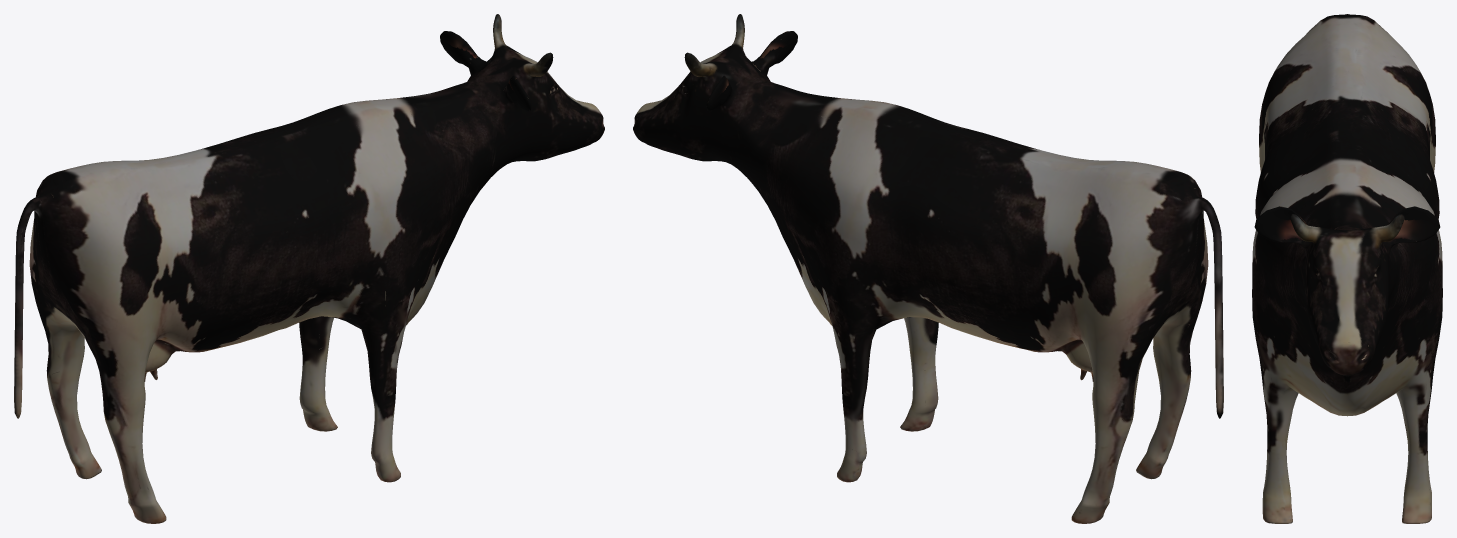
File: my_cow_lp_normal.fbx
The picture shows the model from 3 angles, left to right: view 1: azimuth 30°, elevation 25°; view 2: azimuth 150°, elevation 25°; view 3: azimuth 270°, elevation 25°; orthographic projection. The views are drawn at different scales.
Visible parts, largest first — view 1: Plane.006; view 2: Plane.006; view 3: Plane.006.
Part boxes in pixels (bbox=[...]): Plane.006: bbox=[14, 14, 604, 523]; Plane.006: bbox=[633, 14, 1223, 523]; Plane.006: bbox=[1252, 14, 1442, 523].
Size of the model in its own units: 291 by 179 by 79.25.
Materials: 1 (1 with a texture image).
